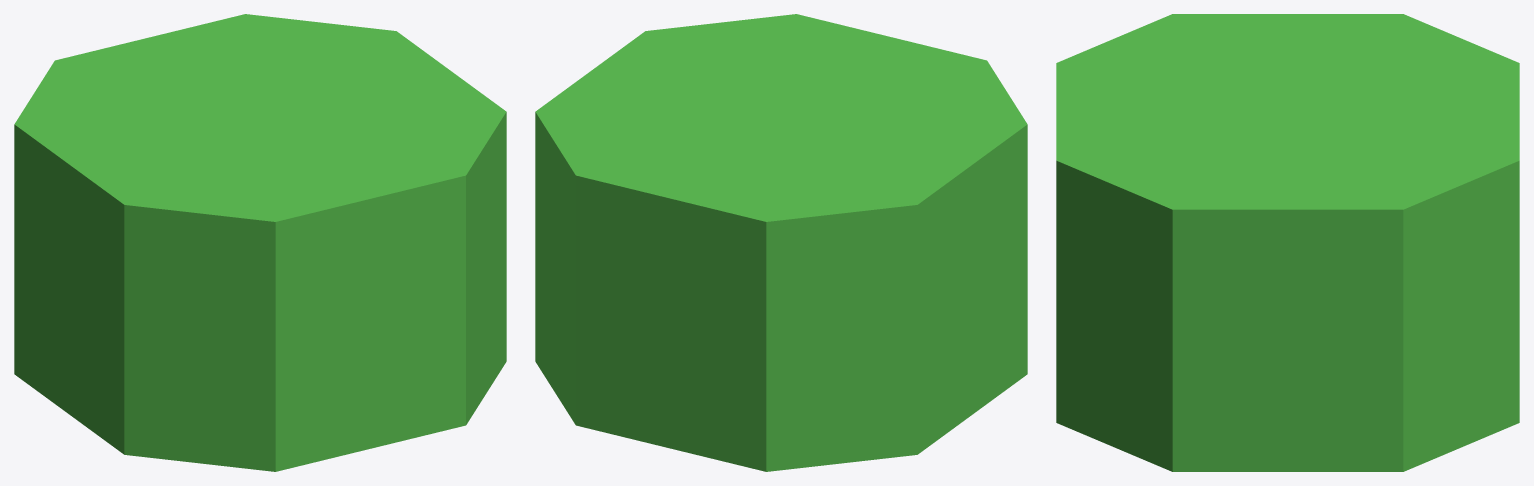
File: arenas.glb
3 renders of one model, left to right at view 1: azimuth 30°, elevation 25°; view 2: azimuth 150°, elevation 25°; view 3: azimuth 270°, elevation 25°, orthographic. The views are drawn at different scales.
Visible parts, largest first — view 1: Plane.002; view 2: Plane.002; view 3: Plane.002.
Part boxes in pixels (box(x1,y1,x2,y2)): Plane.002: box(14, 14, 506, 471); Plane.002: box(535, 14, 1027, 471); Plane.002: box(1056, 14, 1519, 471).
Bounding box in the file's own units: 32 × 20 × 32.
Materials: 1 (1 with a texture image).
